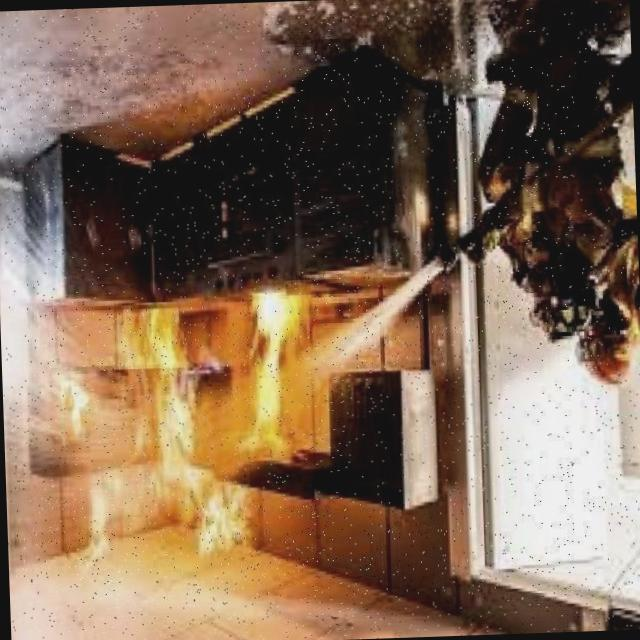fire: (116, 288, 305, 565)
